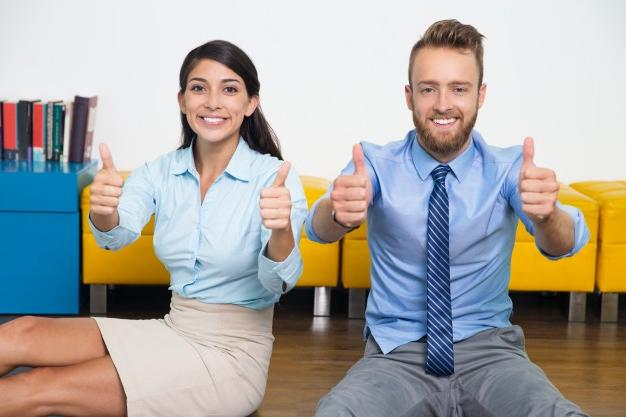thumbsup: (330, 143, 369, 226), (520, 136, 560, 215), (88, 143, 124, 216), (258, 160, 292, 230)
